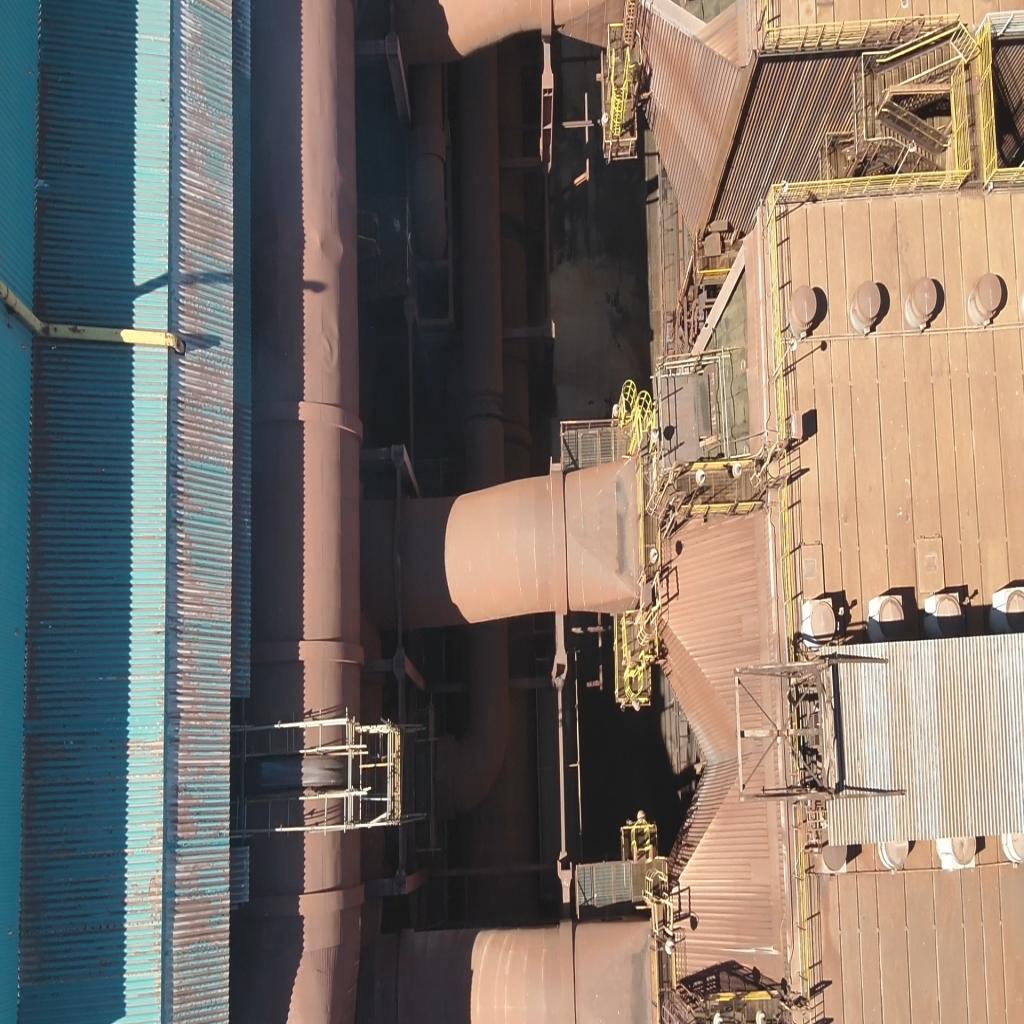Failures: (678, 270, 756, 487)
